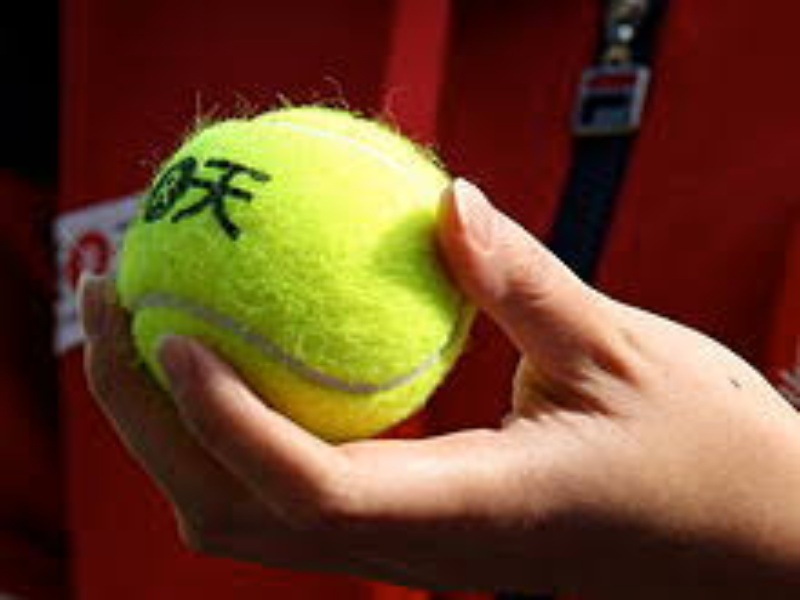tennis ball: (123, 94, 484, 424)
